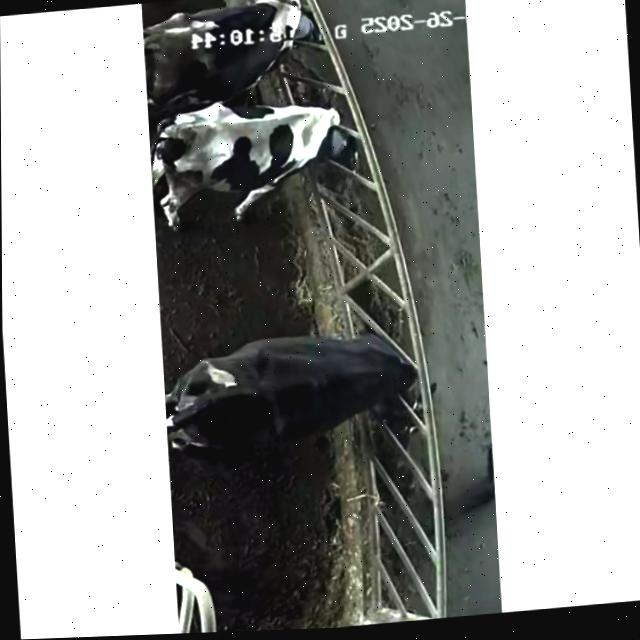eat: (326, 316, 473, 453), (258, 87, 422, 209), (210, 0, 370, 83)
